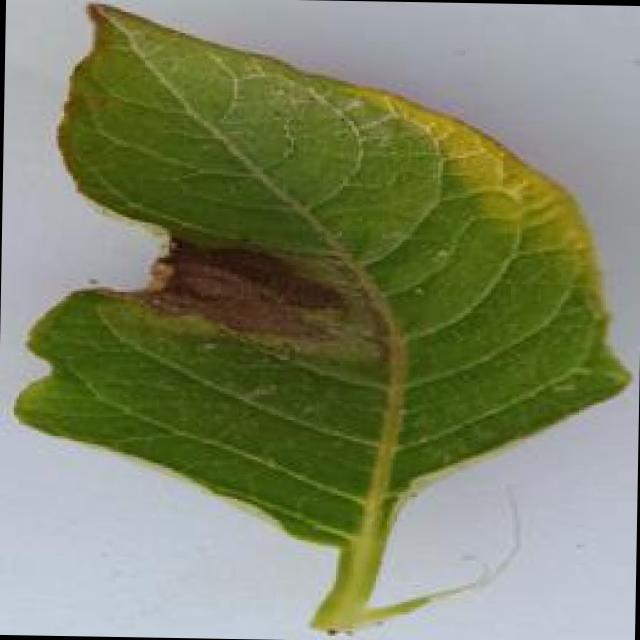Potato_Late_Blight: (12, 0, 638, 550)
